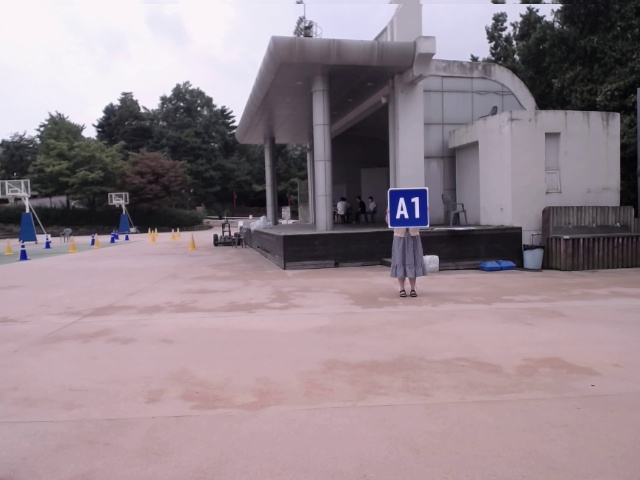delivery_a1: (387, 188, 429, 227)
